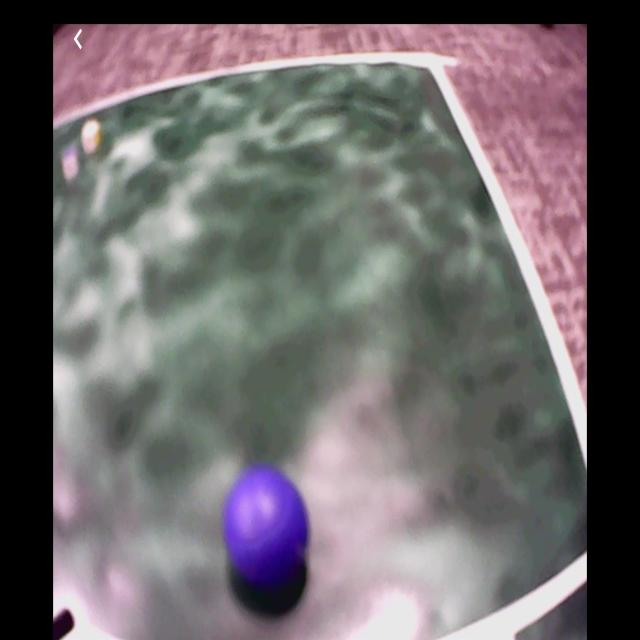ball: (228, 472, 310, 593)
